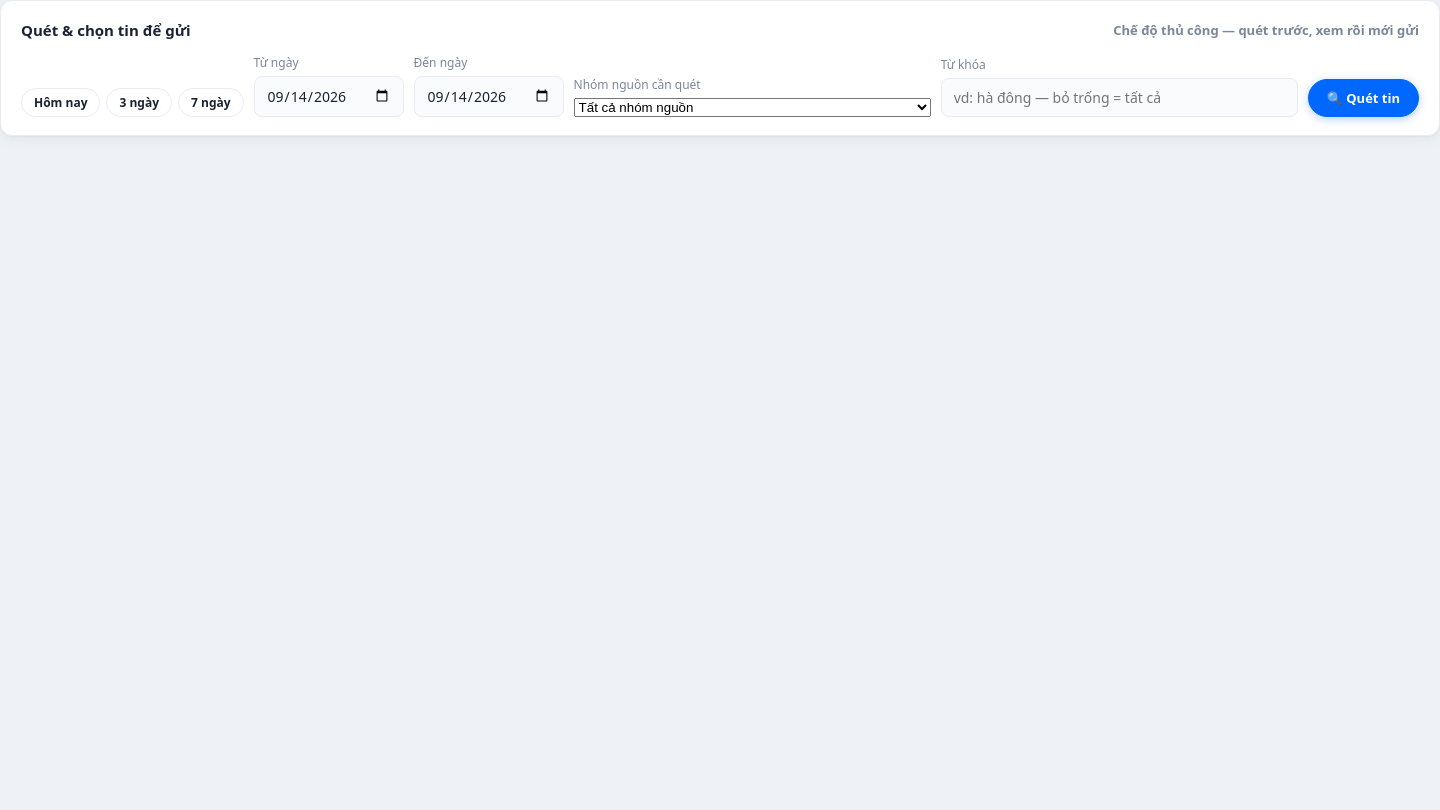
Test: ScanReviewPanel › hiển thị riêng thông báo hết phòng thay vì ghi chung là chỉ có chữ
Click the button "🔍 Quét tin" at {"x": 1363, "y": 98}, box 1308,78 -> 1419,116
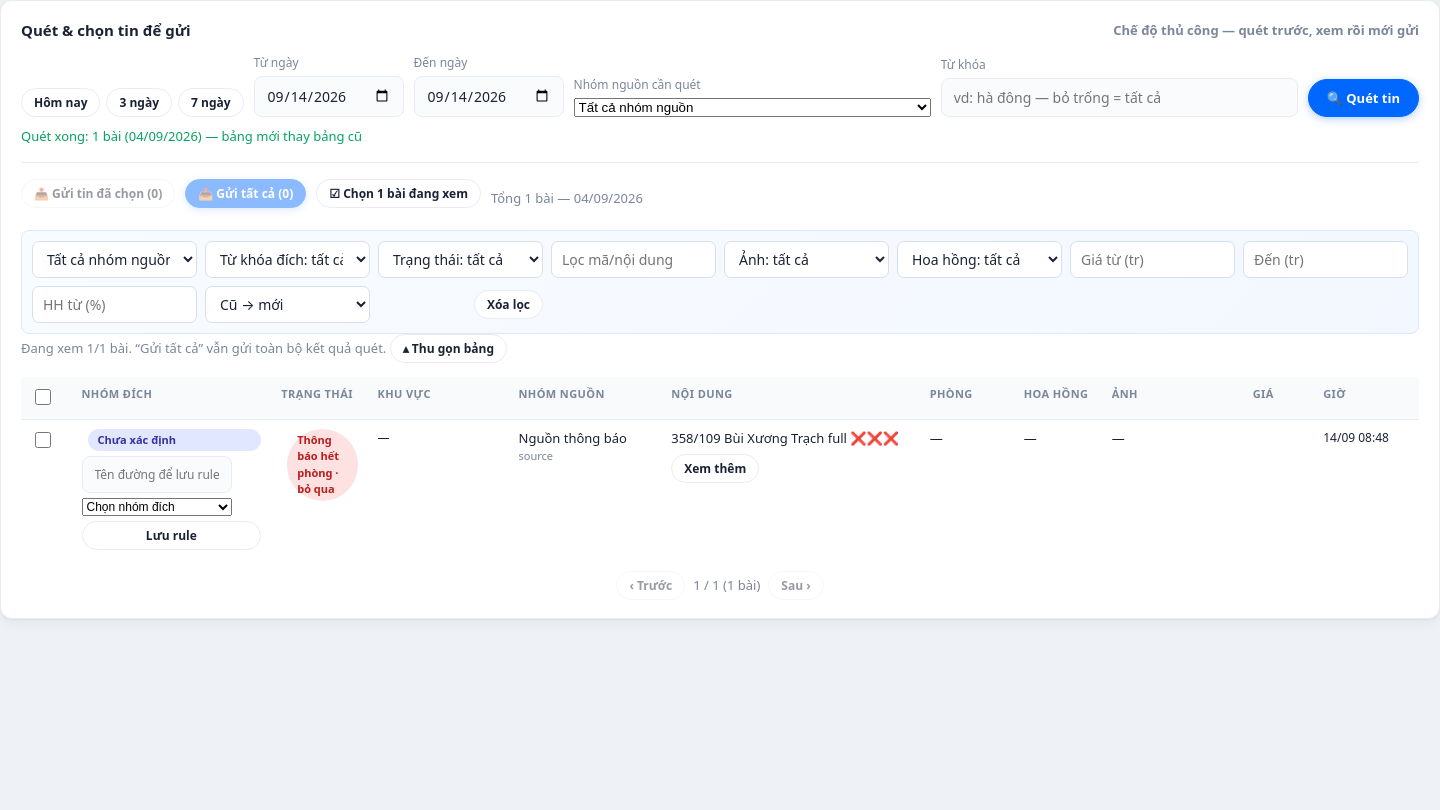
Expected: the text "Thông báo hết phòng · bỏ qua" is shown, 287,428 -> 358,500
